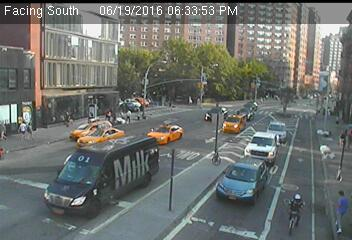neg: (277, 188, 314, 237)
pos: (325, 187, 351, 232), (59, 108, 74, 128), (15, 116, 29, 134), (122, 107, 134, 124), (24, 122, 33, 134)
